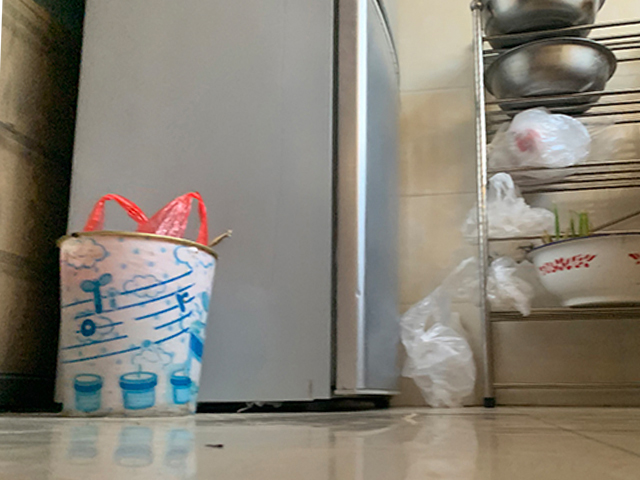trashcan: (54, 229, 219, 418)
